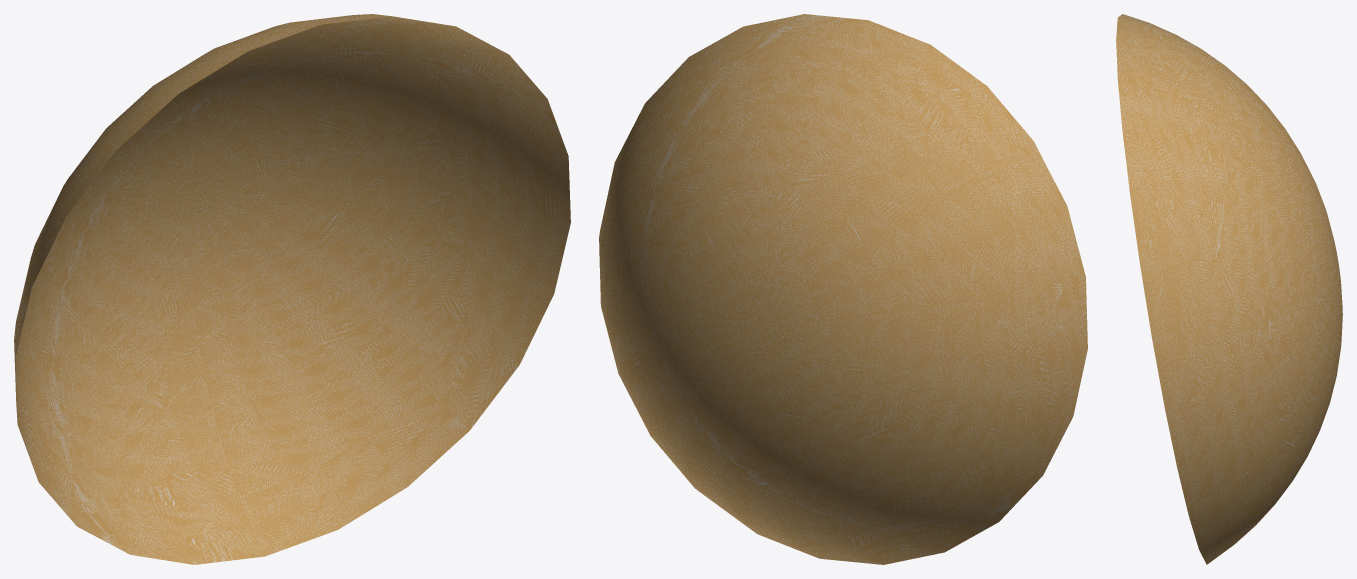
File: original-25.obj
3 renders of one model, left to right at view 1: azimuth 30°, elevation 25°; view 2: azimuth 150°, elevation 25°; view 3: azimuth 270°, elevation 25°, orthographic. The views are drawn at different scales.
Parts seen in each view (by area): view 1: 3dw.e450a063965ce182372d50f0ef237781/Model/mesh1/mesh1-geometry/; view 2: 3dw.e450a063965ce182372d50f0ef237781/Model/mesh1/mesh1-geometry/; view 3: 3dw.e450a063965ce182372d50f0ef237781/Model/mesh1/mesh1-geometry/.
Boxes of the visible parts, bbox=[...] form: 3dw.e450a063965ce182372d50f0ef237781/Model/mesh1/mesh1-geometry/: bbox=[14, 14, 570, 564]; 3dw.e450a063965ce182372d50f0ef237781/Model/mesh1/mesh1-geometry/: bbox=[599, 14, 1087, 564]; 3dw.e450a063965ce182372d50f0ef237781/Model/mesh1/mesh1-geometry/: bbox=[1116, 14, 1342, 564].
Size of the model in its own units: 0.0512 by 0.0504 by 0.0207.
